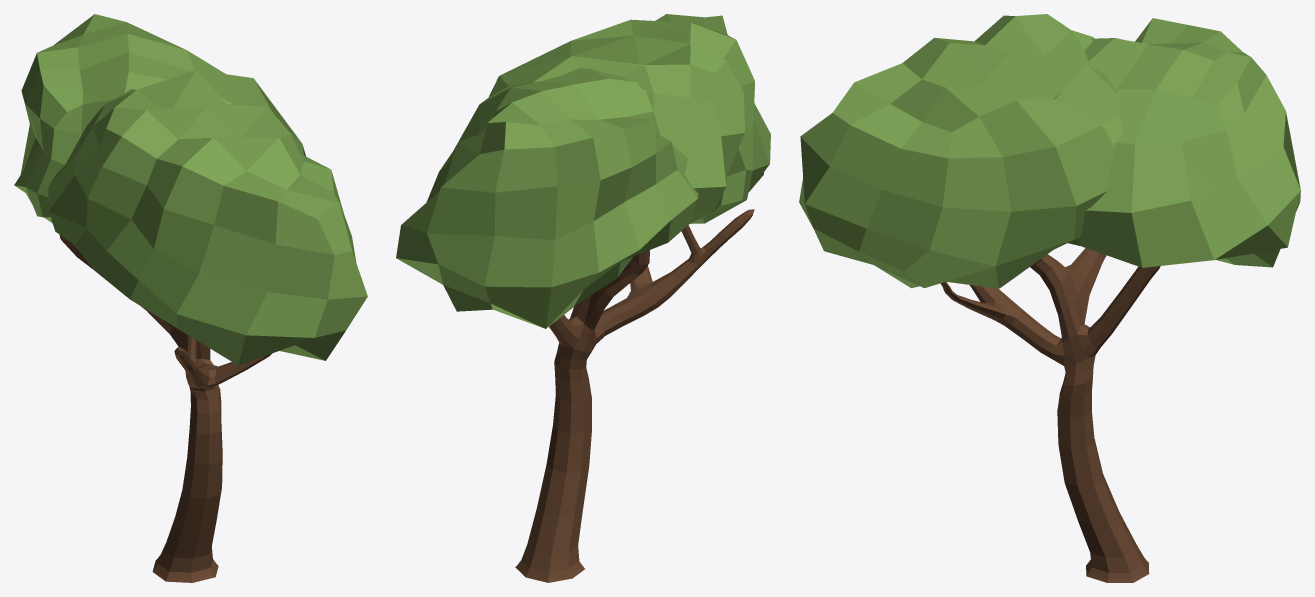
The model's file is feuillu_jeune.glb.
3 renders of one model, left to right at view 1: azimuth 30°, elevation 25°; view 2: azimuth 150°, elevation 25°; view 3: azimuth 270°, elevation 25°, orthographic. The views are drawn at different scales.
Visible parts, largest first — view 1: feuillu_jeune; view 2: feuillu_jeune; view 3: feuillu_jeune.
Part boxes in pixels (x1,y1,x2,y2): feuillu_jeune: [14, 14, 367, 582]; feuillu_jeune: [396, 14, 770, 582]; feuillu_jeune: [799, 14, 1300, 582].
Bounding box in the file's own units: 3.58 × 7 × 6.22.
